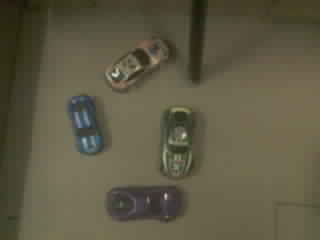Car: (105, 40, 167, 90), (108, 187, 178, 219), (161, 106, 192, 177), (69, 96, 102, 153)
